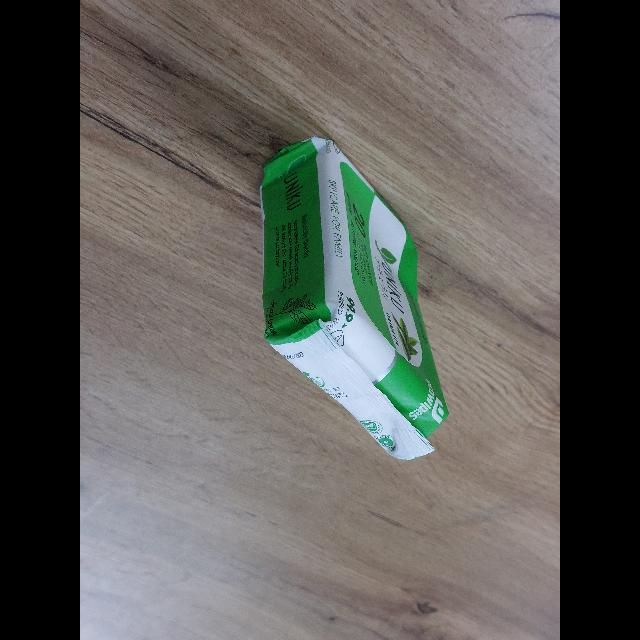khan_giay: (261, 137, 448, 459)
